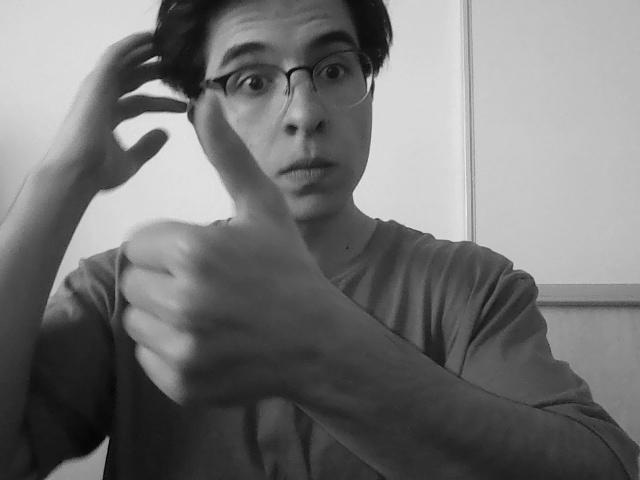good: (114, 101, 308, 405)
